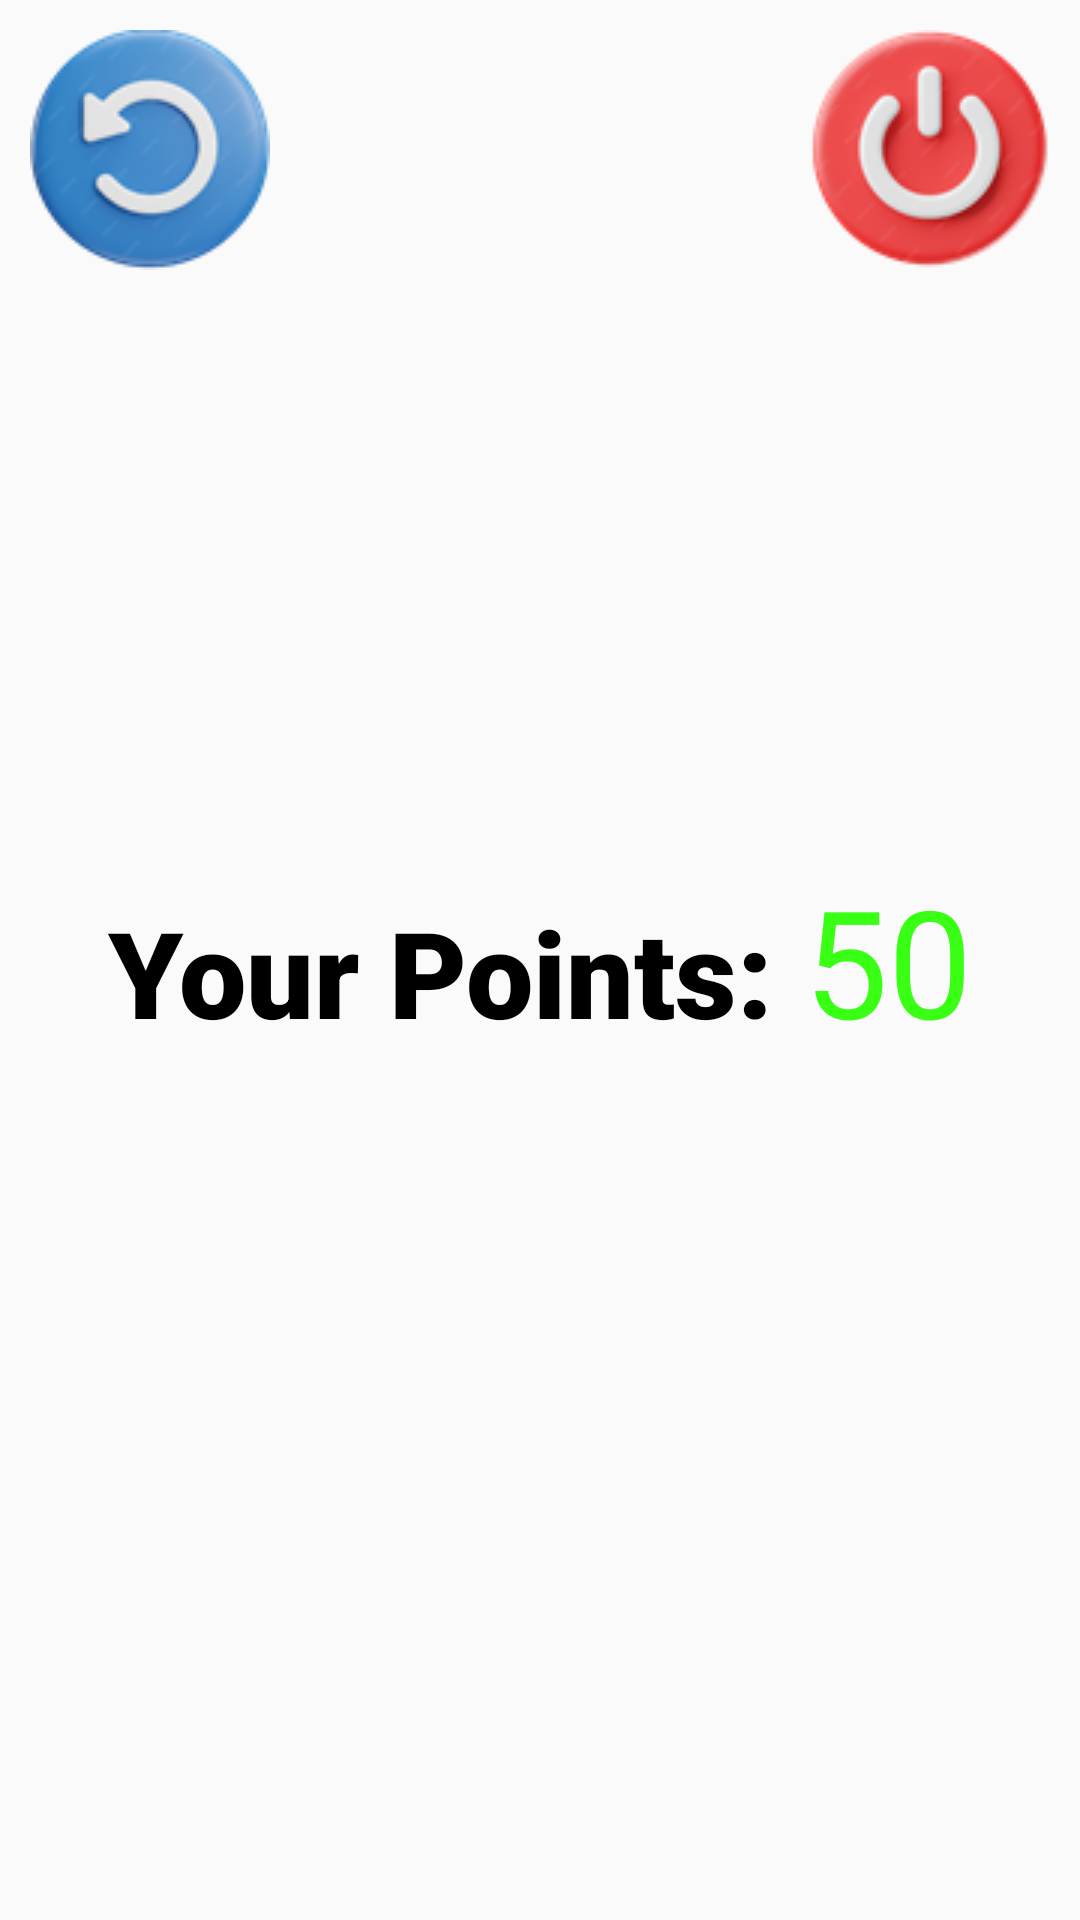

Screen size 1080px×1920px. Icon name, then its center in pixels as [x,y]:
exit: [930,149]
restart: [150,149]
